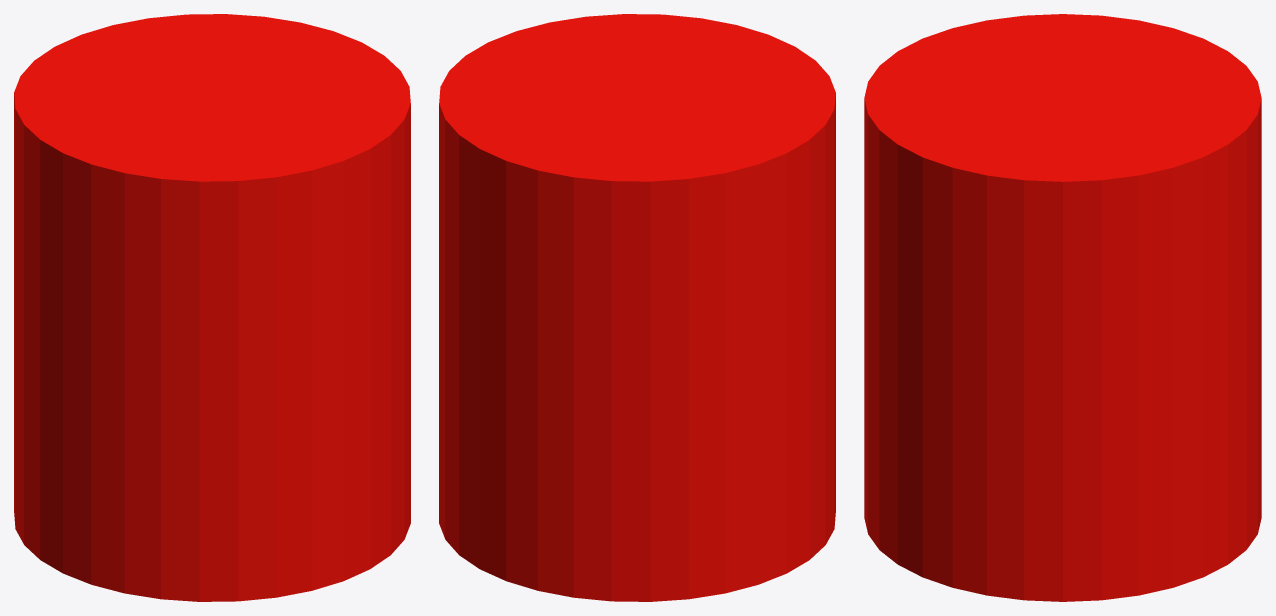
File: objCandle.obj
The picture shows the model from 3 angles, left to right: view 1: azimuth 30°, elevation 25°; view 2: azimuth 150°, elevation 25°; view 3: azimuth 270°, elevation 25°; orthographic projection.
Visible parts, largest first — view 1: objCandle_runtime_export; view 2: objCandle_runtime_export; view 3: objCandle_runtime_export.
Part boxes in pixels (<box>): objCandle_runtime_export: <box>14,14,410,601</box>; objCandle_runtime_export: <box>439,14,835,601</box>; objCandle_runtime_export: <box>864,14,1261,601</box>.
Size of the model in its own units: 0.24 by 0.28 by 0.24.
